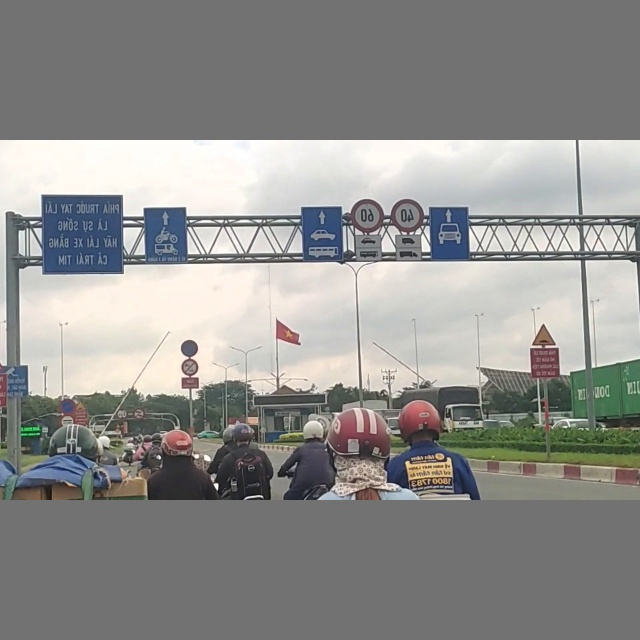Camera: (4, 365, 29, 397)
P.107: (133, 408, 145, 419), (116, 408, 127, 420)
P.111: (181, 359, 198, 376)
P.127*40: (391, 199, 424, 232)
P.127*60: (351, 199, 383, 233)
P.129: (59, 415, 74, 427)
P.130: (181, 339, 199, 357)
P.131a: (59, 399, 75, 414)
W.221b: (531, 323, 555, 346), (76, 401, 86, 411)
